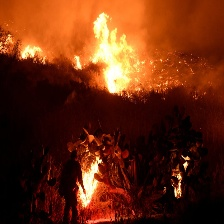fire: (74, 15, 145, 97), (151, 48, 201, 91), (80, 150, 97, 209), (167, 156, 185, 200), (18, 41, 46, 66)
smoke: (20, 1, 224, 48)
